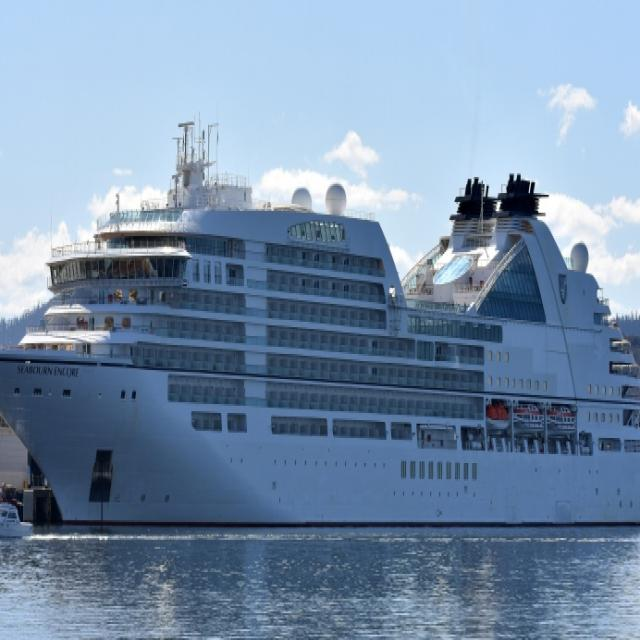cruises: (1, 124, 640, 532)
